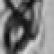not correct: (0, 0, 48, 52)
